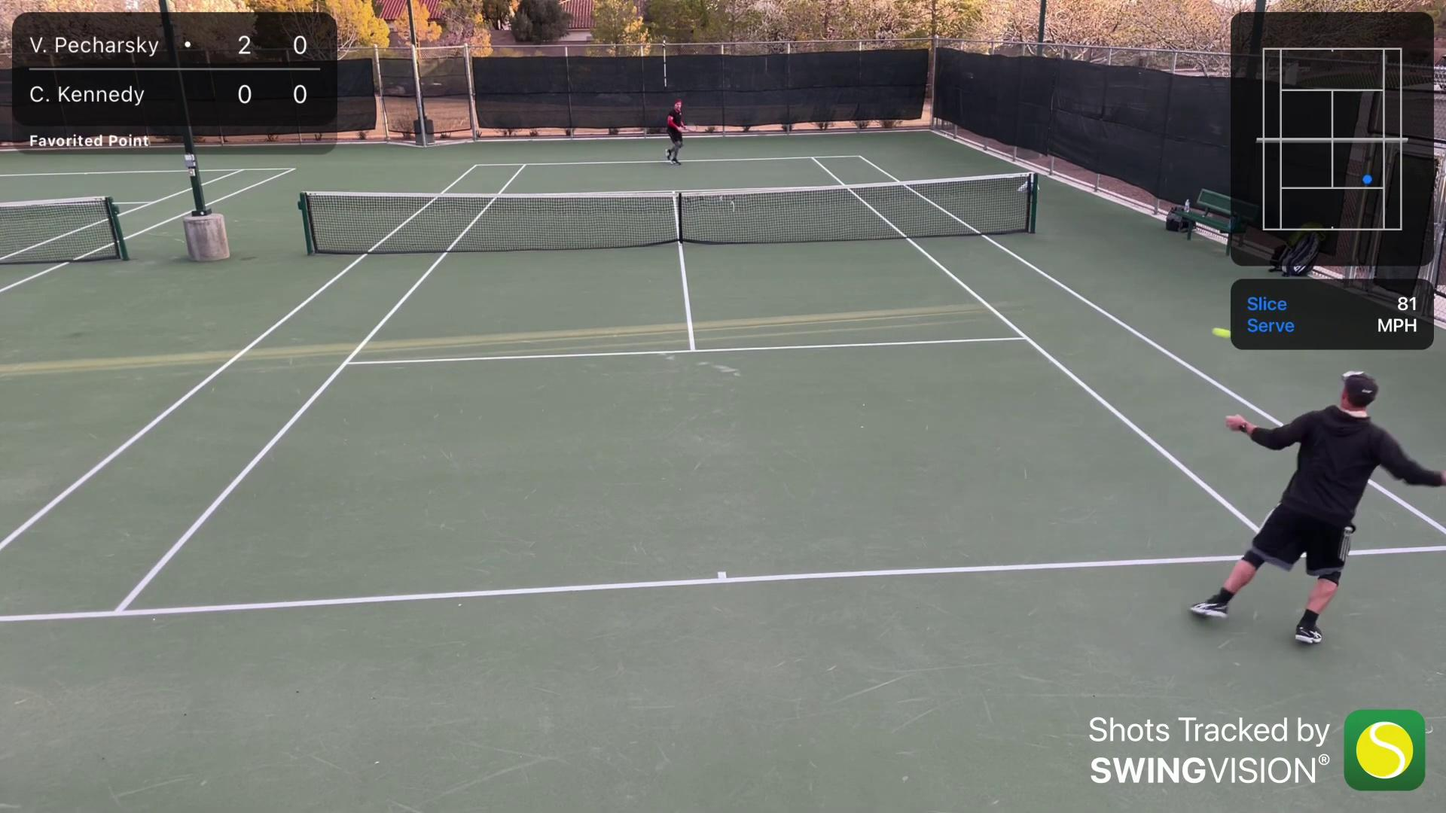ball: (1210, 324, 1231, 339)
